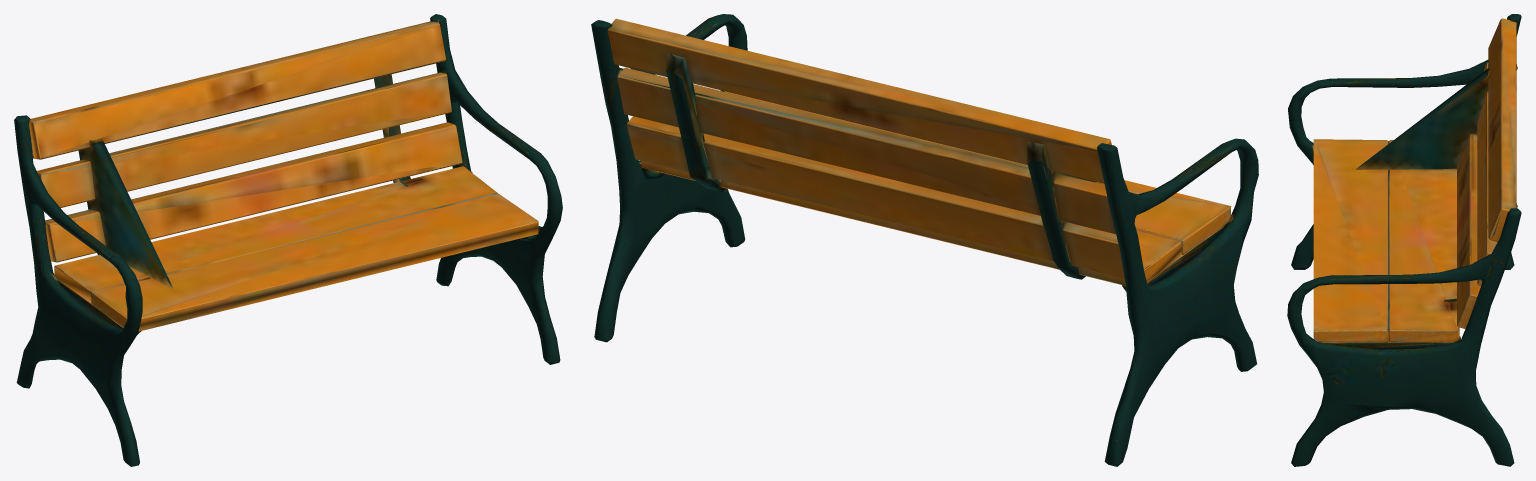
The model's file is bench.glb.
3 views of the same model, side by side, from view 1: azimuth 30°, elevation 25°; view 2: azimuth 150°, elevation 25°; view 3: azimuth 270°, elevation 25° (orthographic). The views are drawn at different scales.
Bounding box in the file's own units: 1.8 × 1.04 × 0.8742.
1 material, 1 textured.
